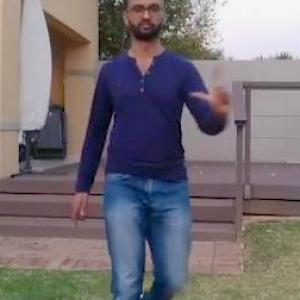land_hand: (189, 57, 243, 125)
